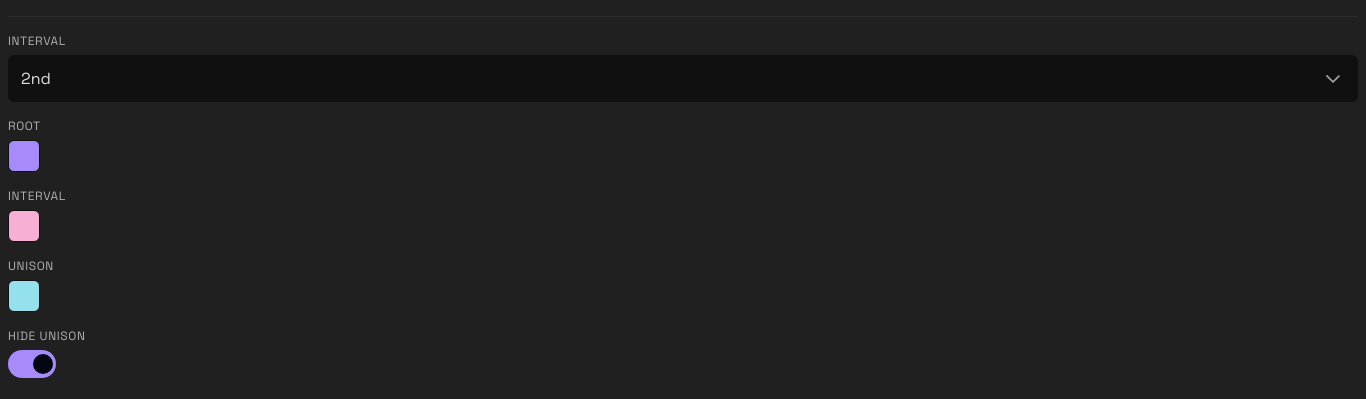
SidebarControls › /intervals route › toggles the unison label to "Show Unison" when the switch is clicked
This screenshot has width=1366, height=399.
What coordinates should you click on to do the following:
click the switch named "Show/Hide Unison Note"
I would click on:
 (32, 364)
Its box is [8,350,56,378].
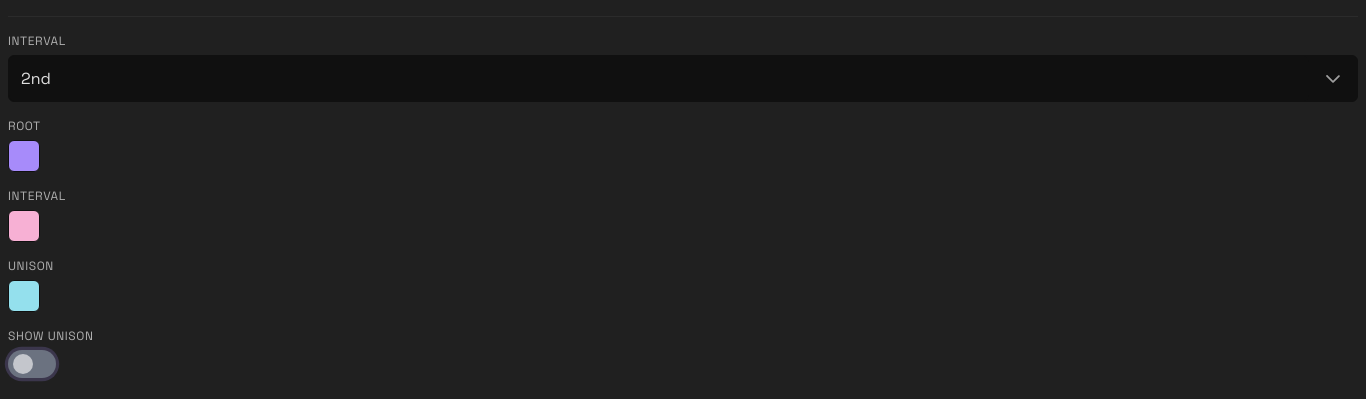
Now the text "Show Unison" is shown, box [8,328,94,344]
